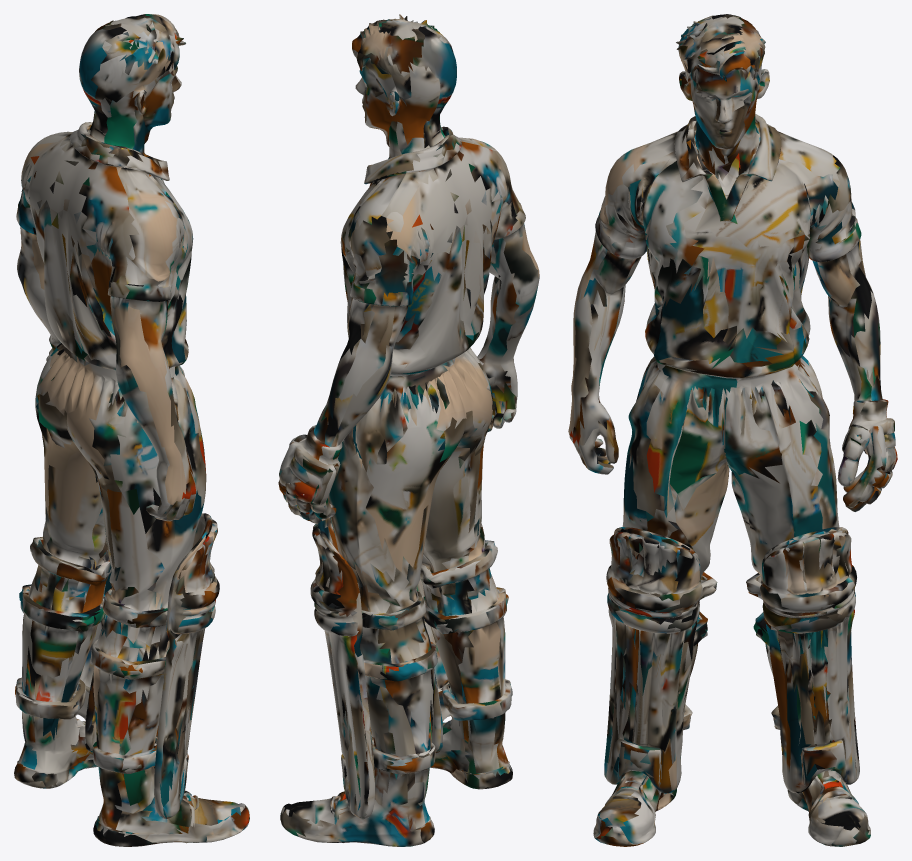
The model's file is SM_C26_Player_Fielder2.fbx.
3 views of the same model, side by side, from view 1: azimuth 30°, elevation 25°; view 2: azimuth 150°, elevation 25°; view 3: azimuth 270°, elevation 25° (orthographic). The views are drawn at different scales.
Parts seen in each view (by area): view 1: node_0; view 2: node_0; view 3: node_0.
Part boxes in pixels (x1,y1,x2,y2): node_0: (14,14,249,846); node_0: (278,14,539,846); node_0: (568,14,897,846).
Size of the model in its own units: 67.77 by 33.59 by 183.
